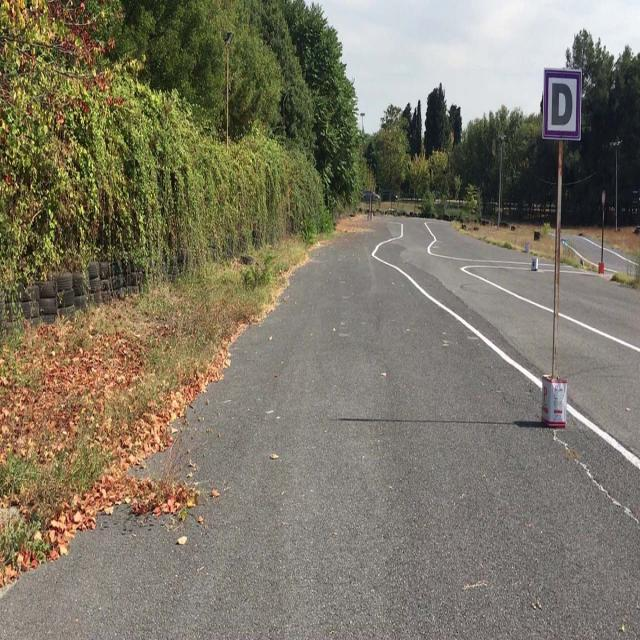durak: (544, 71, 580, 138)
